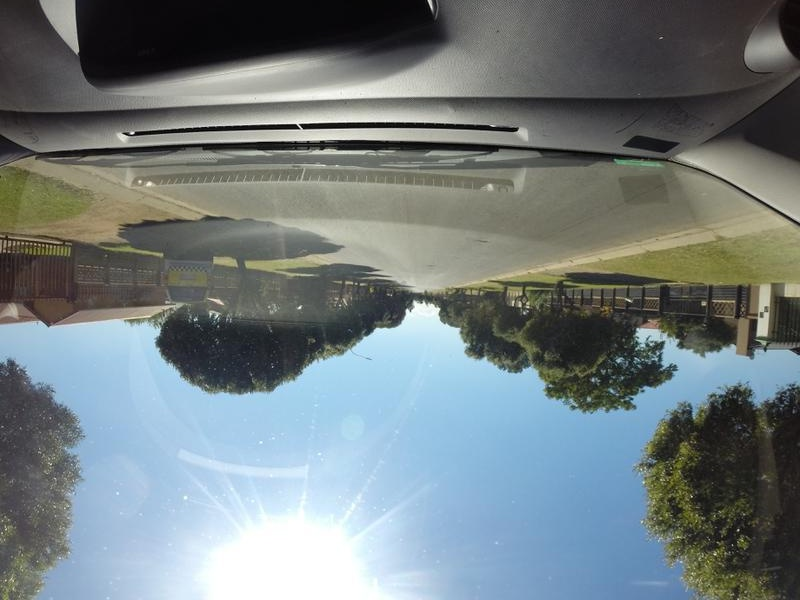pothole: (477, 232, 488, 249)
